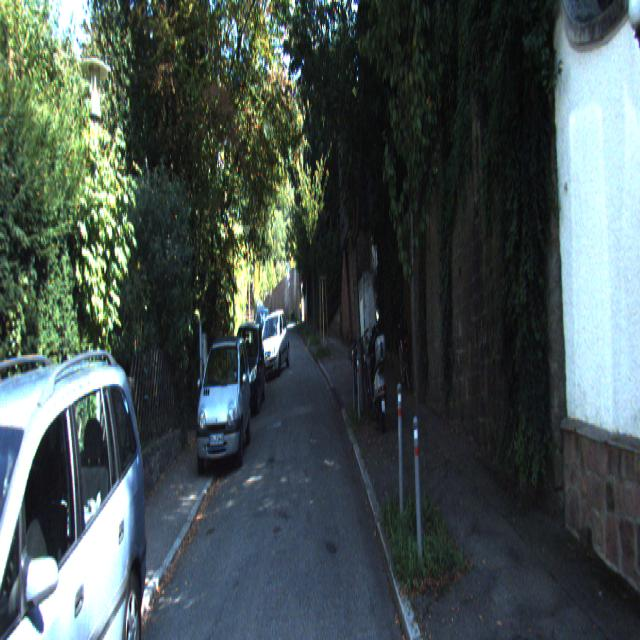Car: (0, 346, 149, 638), (196, 329, 252, 477), (229, 320, 267, 417), (368, 313, 388, 440), (257, 310, 290, 381)
